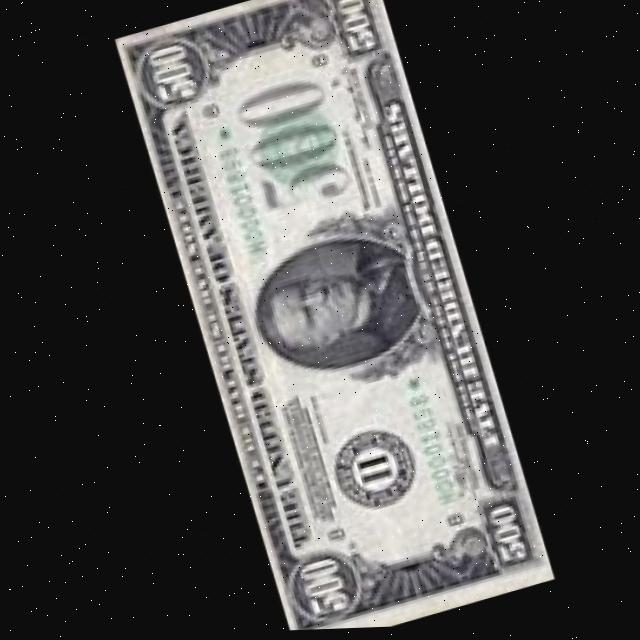banknote: (110, 0, 550, 637)
